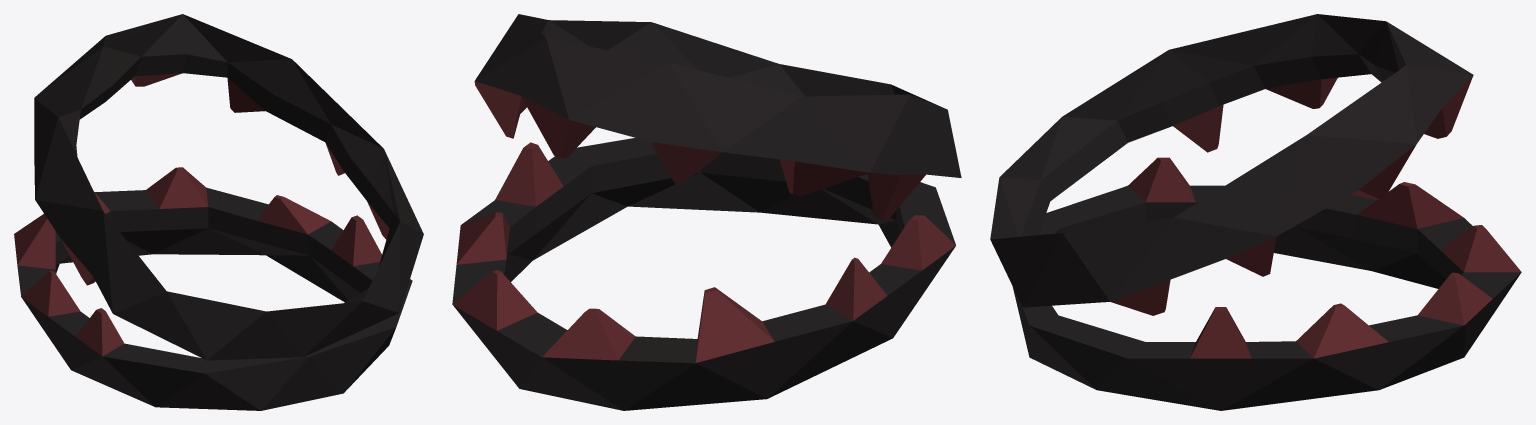
The model's file is Kapkan.fbx.
3 views of the same model, side by side, from view 1: azimuth 30°, elevation 25°; view 2: azimuth 150°, elevation 25°; view 3: azimuth 270°, elevation 25° (orthographic). The views are drawn at different scales.
Visible parts, largest first — view 1: Kapkan_top, Kapkan_bot; view 2: Kapkan_bot, Kapkan_top; view 3: Kapkan_top, Kapkan_bot.
Part boxes in pixels (x1,y1,x2,y2): Kapkan_top: (34, 14, 423, 360); Kapkan_bot: (14, 167, 412, 410); Kapkan_bot: (452, 138, 955, 410); Kapkan_top: (474, 14, 961, 219); Kapkan_top: (990, 14, 1473, 315); Kapkan_bot: (1013, 157, 1521, 410).
Bounding box in the file's own units: 138 × 177 × 108.
